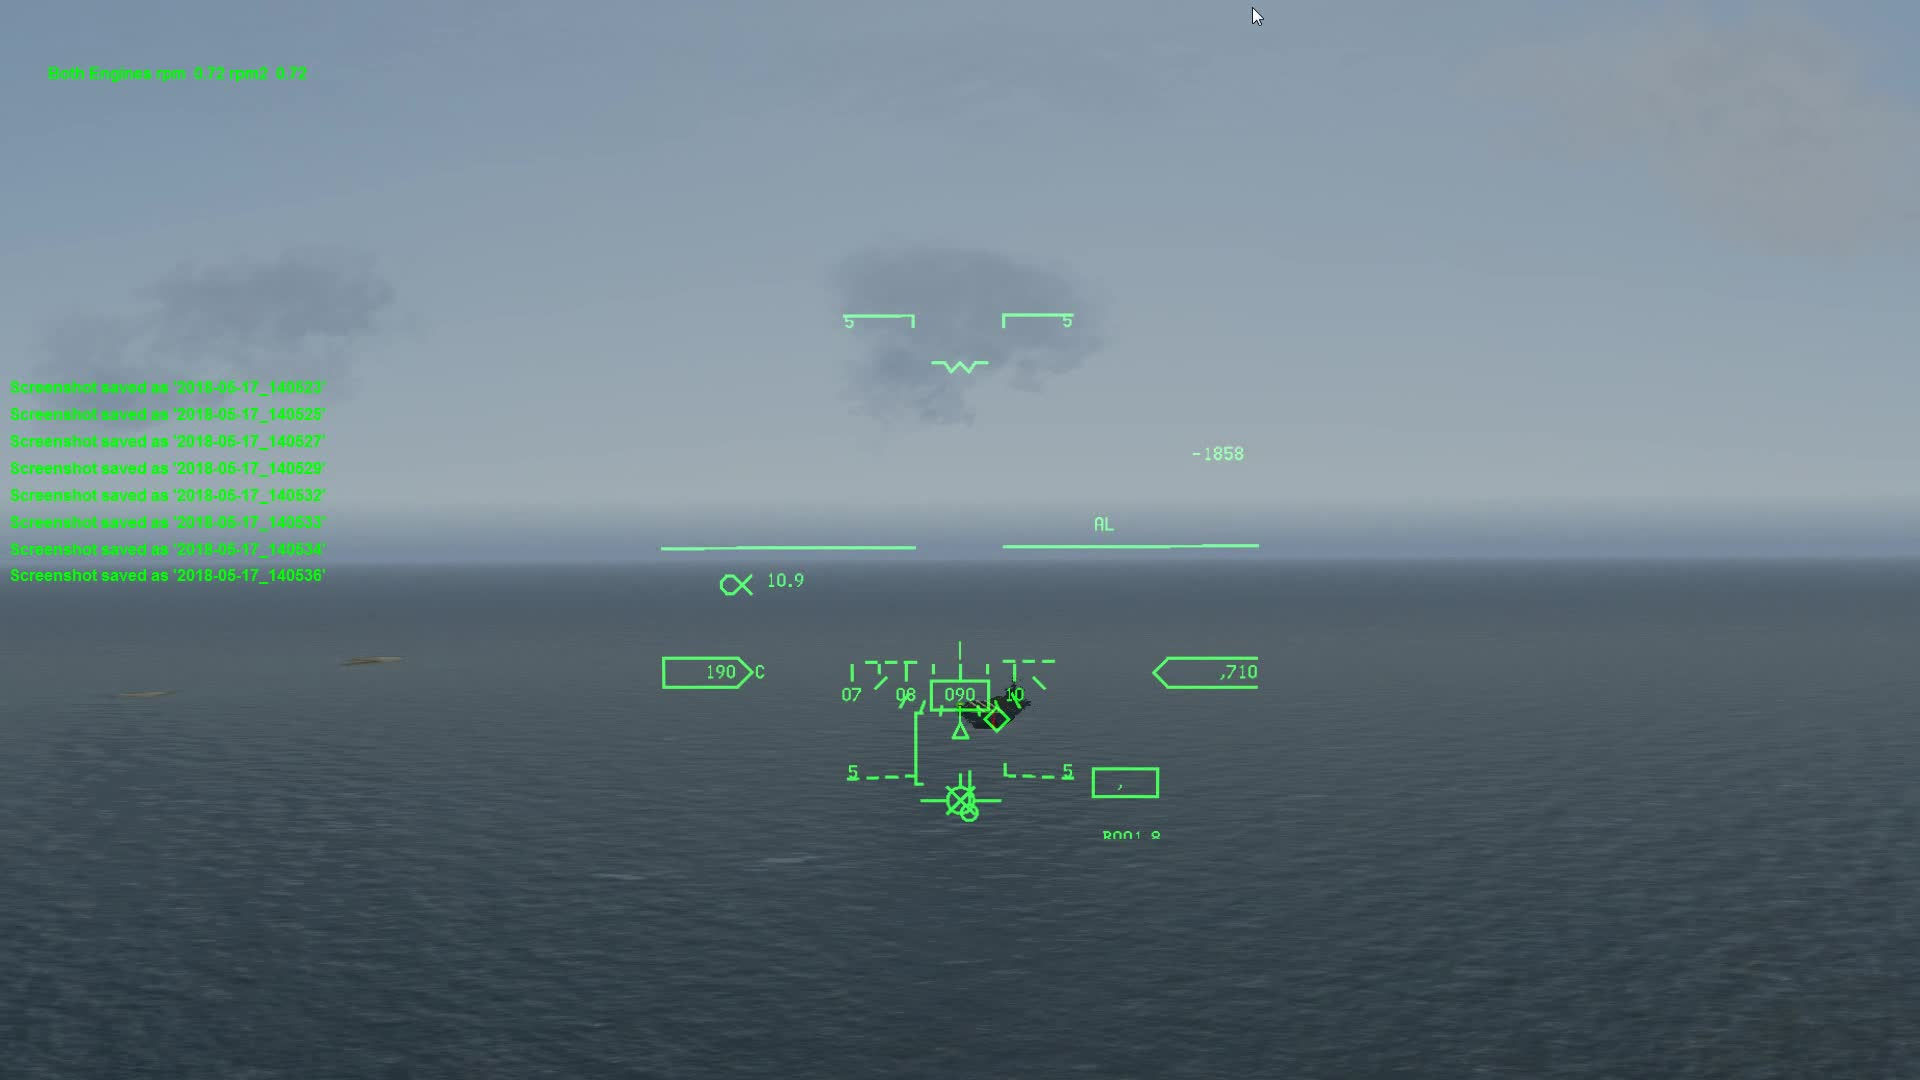speed vector: (920, 760, 1004, 829)
